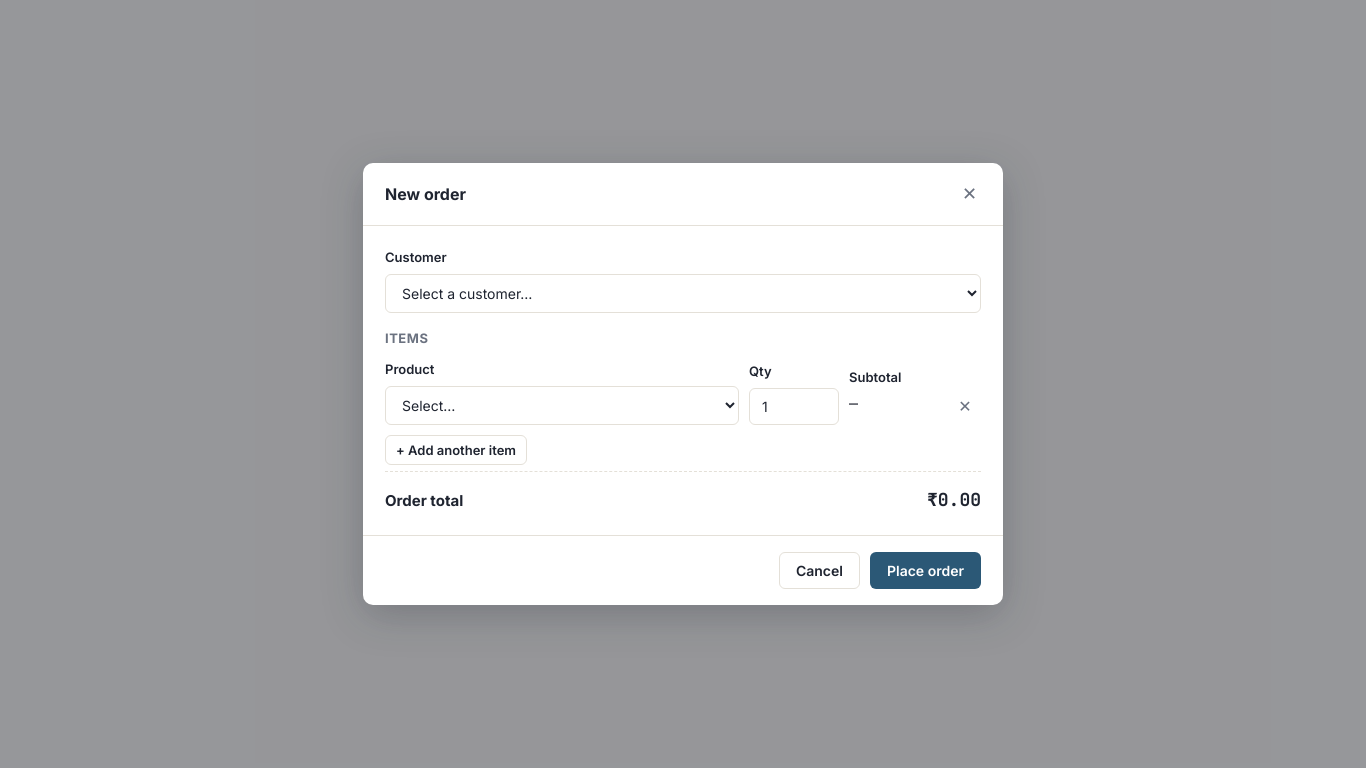
Test case: NewOrderModal › computes the running total as items are added
Select "Anjali Sharma (anjali@example.com)" in the dropdown labelled "Customer" at point(683, 293), box [385,274,981,313]
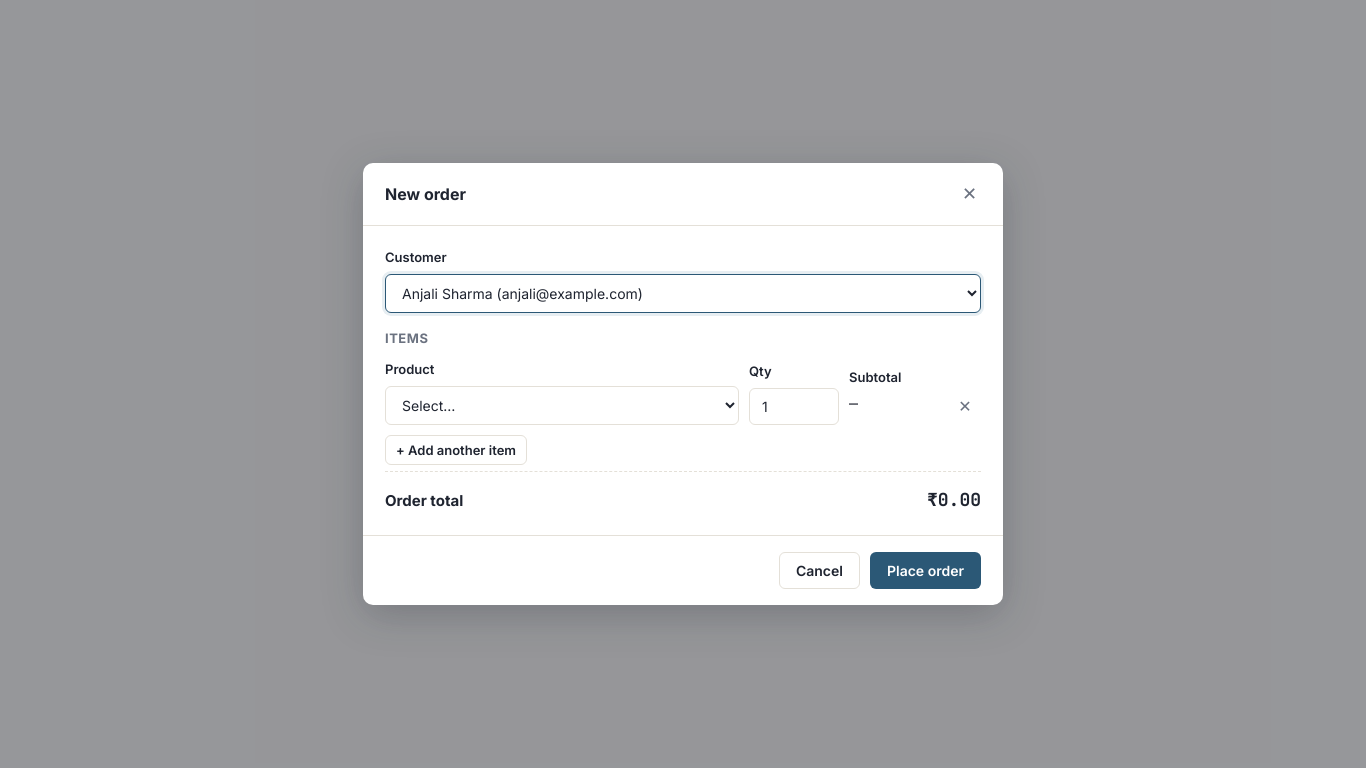
Select "Rudraksha Mala 108 Beads (47 left)" in the dropdown labelled "Product" at point(562, 405), box [385,386,739,425]
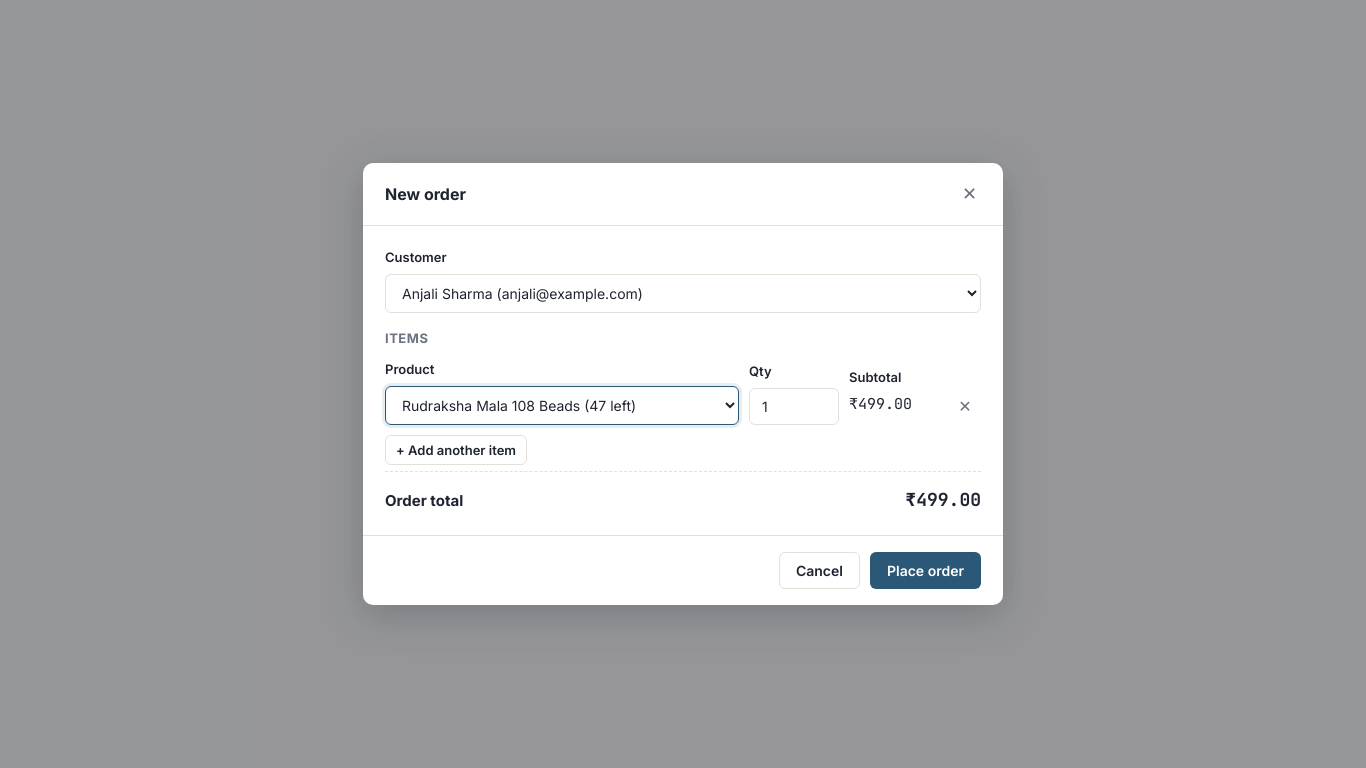
Replace the text in the number field labelled "Qty" with "2" at point(794, 406), box [749,388,839,425]
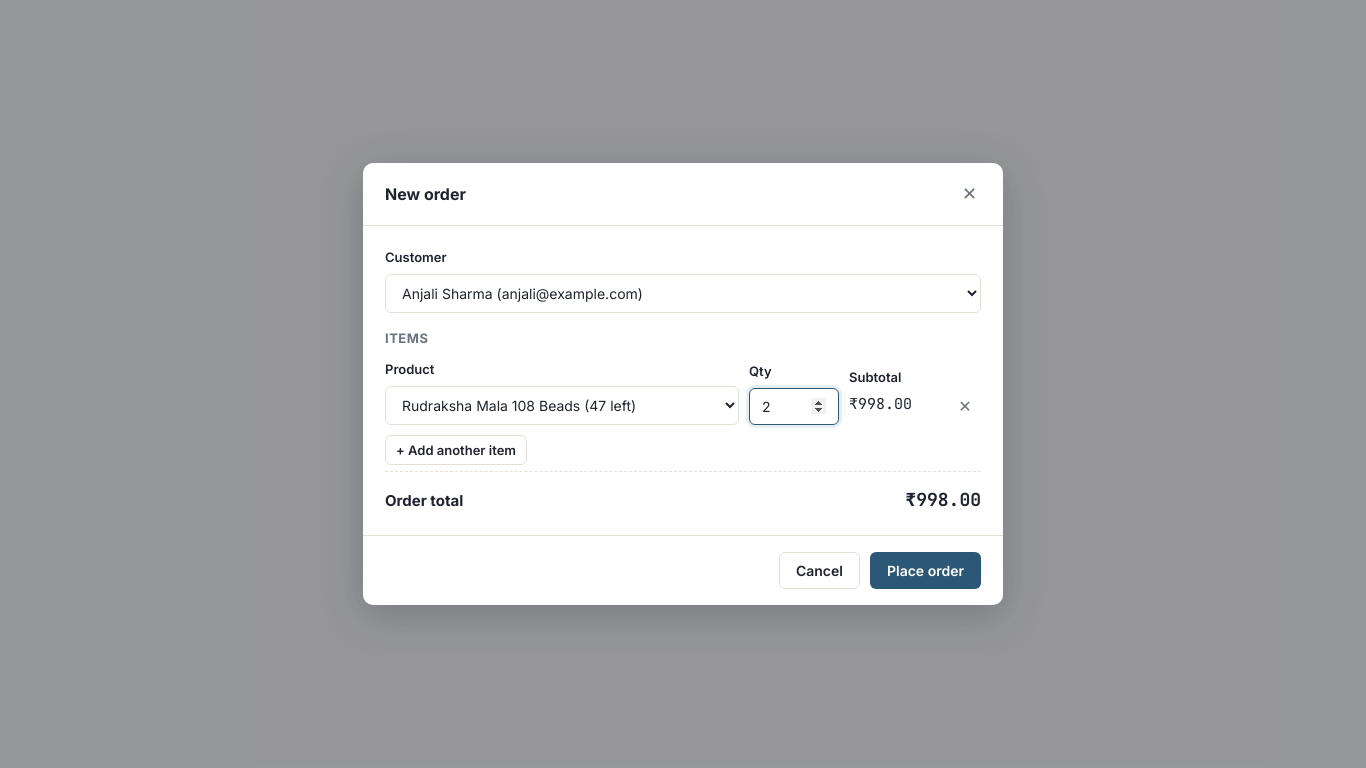
Expected: the text "₹998.00" in the row of "Order total" is shown, [905,488,981,511]
